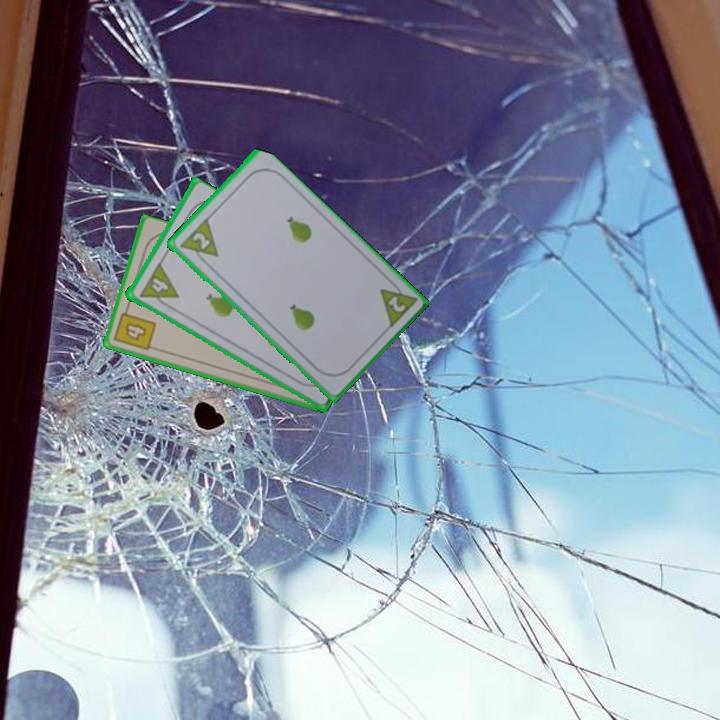2p: (376, 275, 419, 331), (188, 229, 213, 252)
4b: (110, 303, 159, 354)
4p: (145, 261, 181, 298)
